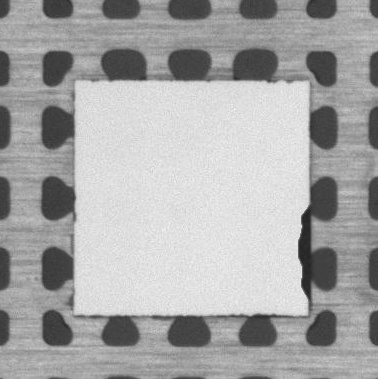DIE_BROKEN: (296, 206, 313, 299)
